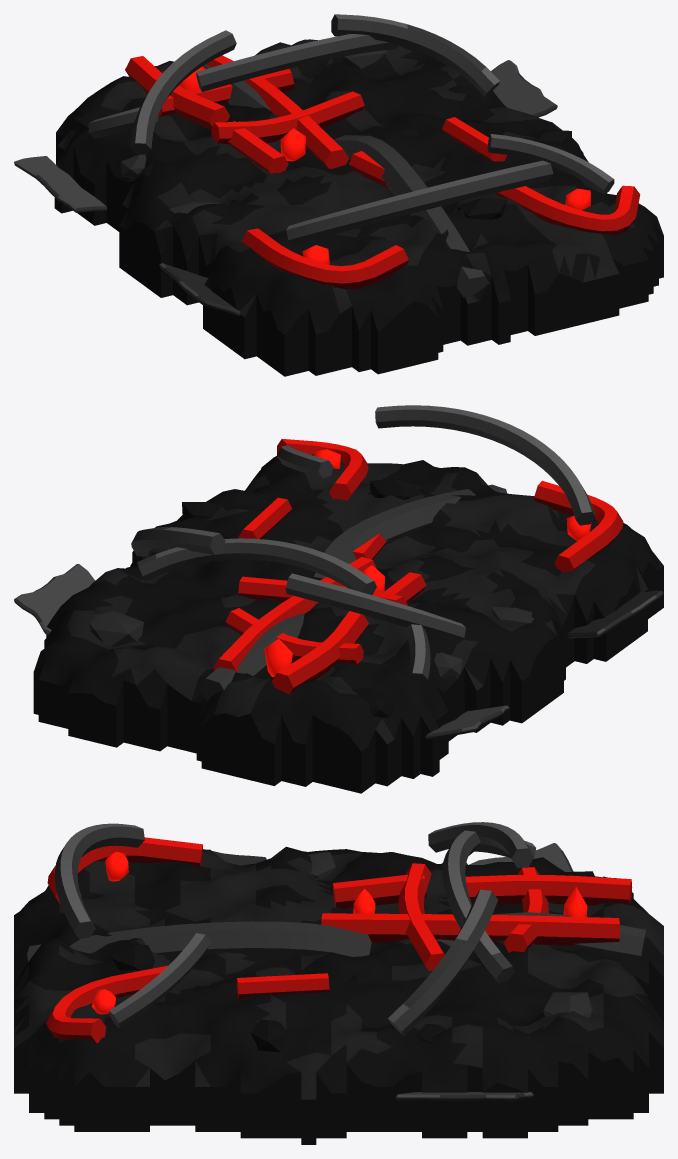
Rendered from zeppelin_41_wreck.glb.
3 renders of one model, top to bottom at view 1: azimuth 30°, elevation 25°; view 2: azimuth 150°, elevation 25°; view 3: azimuth 270°, elevation 25°, orthographic. The views are drawn at different scales.
Parts seen in each view (by area): view 1: zeppelin_41_wreck; view 2: zeppelin_41_wreck; view 3: zeppelin_41_wreck.
Part boxes in pixels (<box>): zeppelin_41_wreck: <box>14,14,663,376</box>; zeppelin_41_wreck: <box>14,405,663,793</box>; zeppelin_41_wreck: <box>14,822,663,1144</box>.
Bounding box in the file's own units: 19.83 × 6.16 × 21.5.
